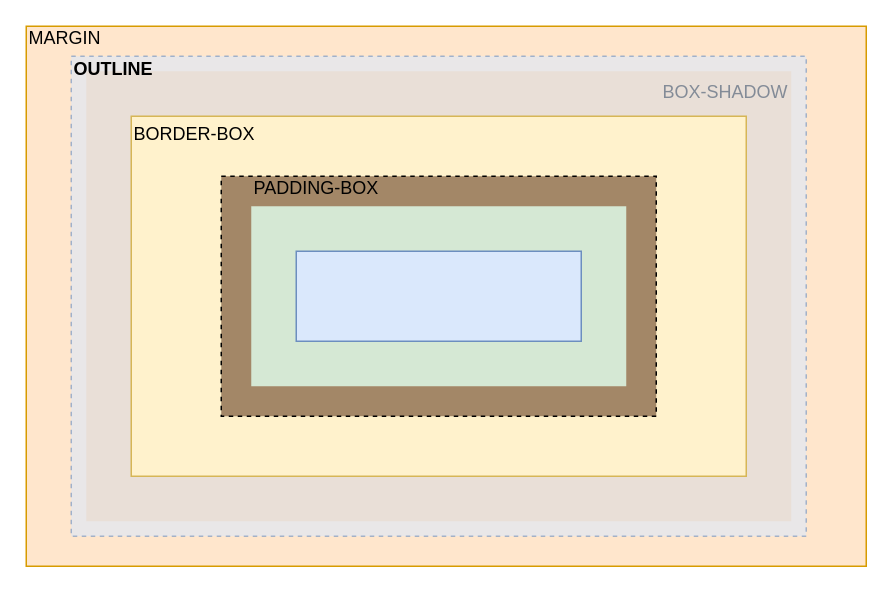
This 893x593 diagram has some shape labels left out. The shapes that lost their labels are listed below. From the top down, each one's box as (x1, y1, x2, y2) in pixels, then its label:
(220, 175, 656, 416): BOX-SHADOW INSET
(295, 250, 581, 341): CONTENTS-BOX
